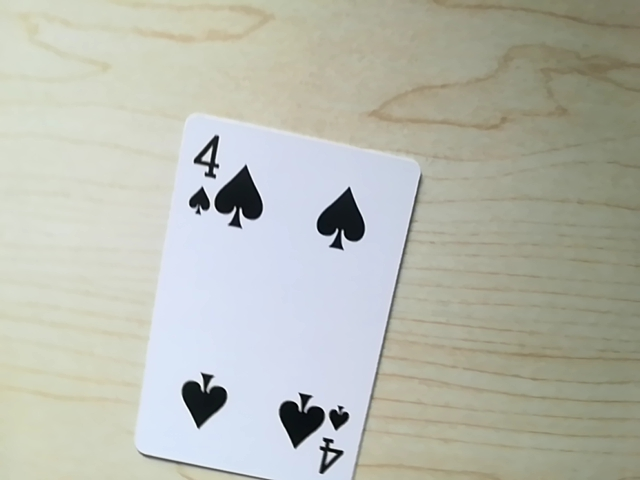ht 4: (178, 126, 218, 224), (319, 397, 352, 480)
